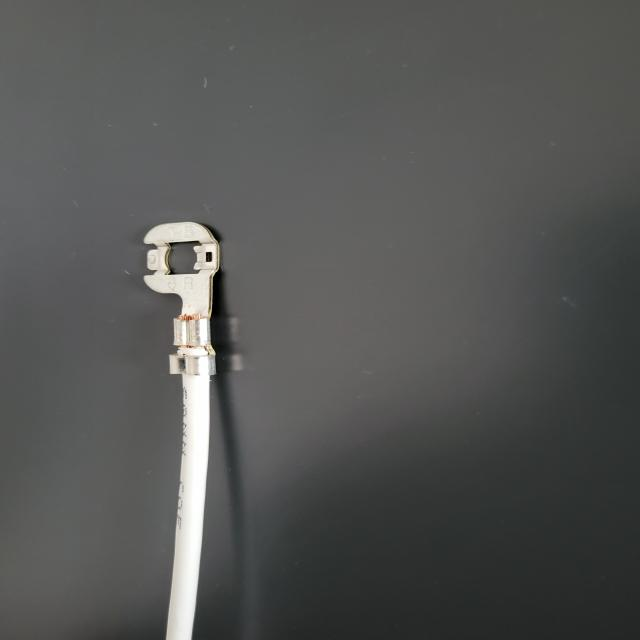good: (22, 5, 630, 640)
